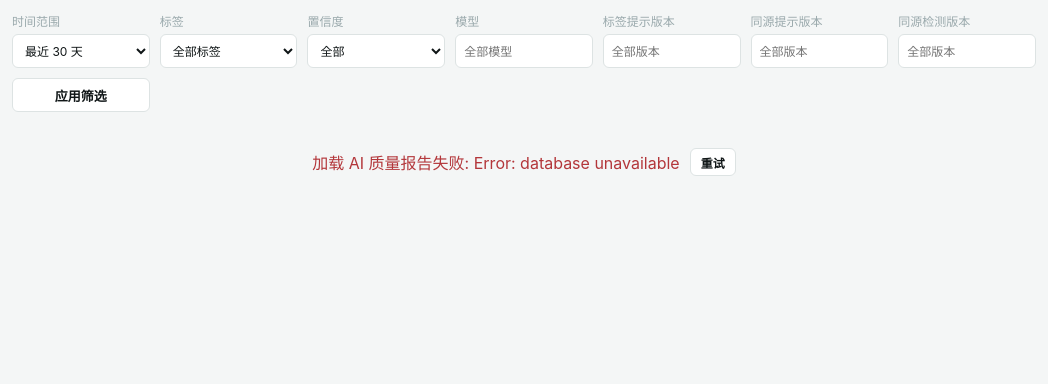
it: AIQualityPanel › shows a recoverable error state
Click the button "重试".
click(713, 162)  # box [690,148,736,176]
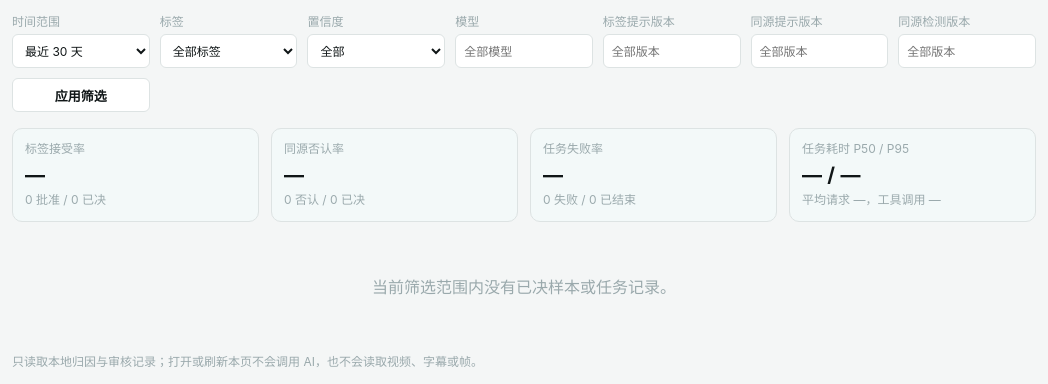
Now the text "当前筛选范围内没有已决样本或任务记录。" is shown, box [372,277,676,297]
